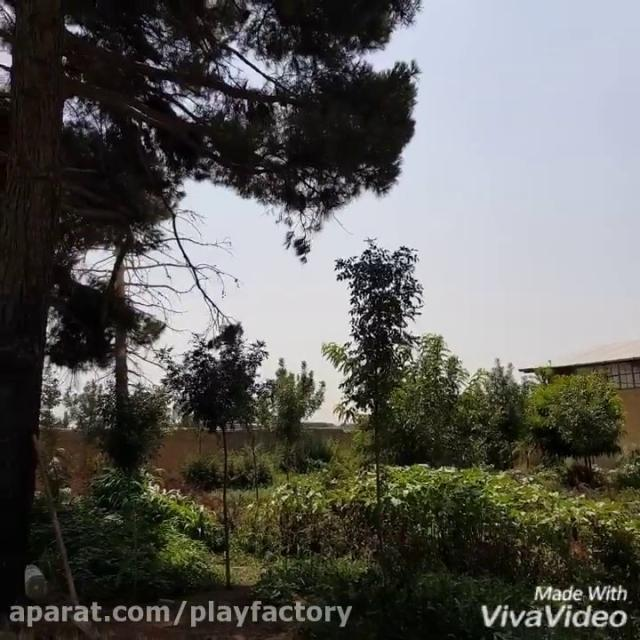drone: (358, 230, 380, 244)
